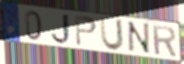0: (25, 10, 43, 42)
J: (50, 13, 72, 45)
N: (126, 20, 153, 56)
P: (73, 14, 98, 48)
R: (150, 23, 178, 58)
U: (99, 16, 125, 53)
